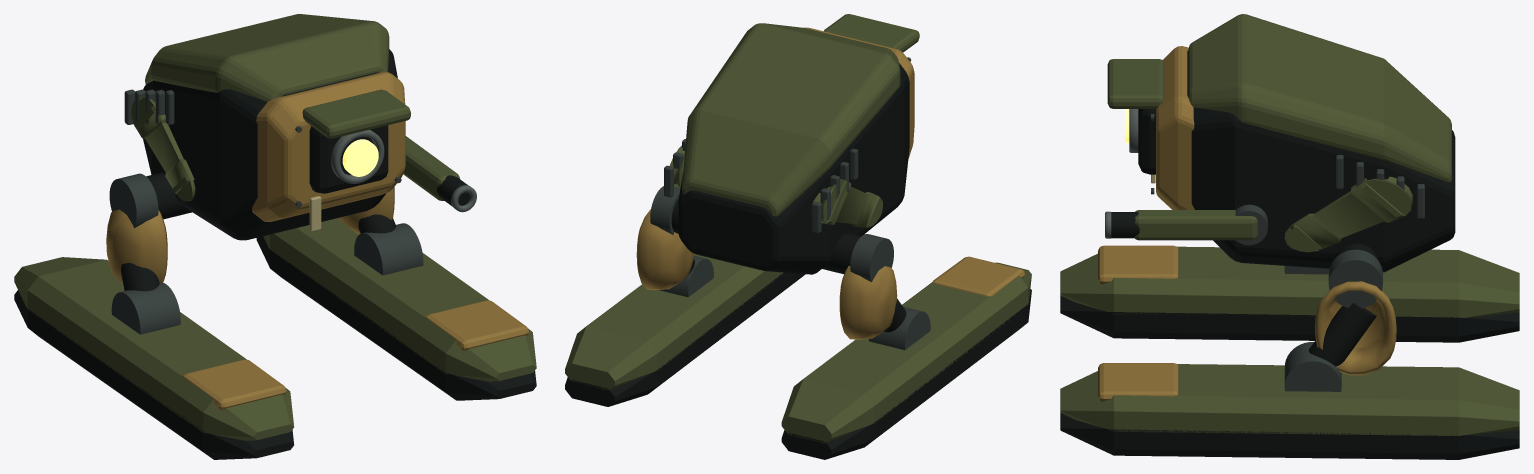
The model's file is DARTER.hi.glb.
The picture shows the model from 3 angles, left to right: view 1: azimuth 30°, elevation 25°; view 2: azimuth 150°, elevation 25°; view 3: azimuth 270°, elevation 25°; orthographic projection. The views are drawn at different scales.
Parts seen in each view (by area): view 1: BodyBank_Mesh, Skate_L_Mesh, Skate_R_Mesh, Suspension_Mesh, ProjectionArm_Mesh; view 2: BodyBank_Mesh, Skate_L_Mesh, Skate_R_Mesh, Suspension_Mesh; view 3: BodyBank_Mesh, Skate_R_Mesh, Skate_L_Mesh, Suspension_Mesh, ProjectionArm_Mesh.
Part boxes in pixels (left/top/right/bottom): BodyBank_Mesh: left=124, top=14, right=410, bottom=240; Skate_L_Mesh: left=14, top=257, right=294, bottom=459; Skate_R_Mesh: left=256, top=218, right=536, bottom=400; Suspension_Mesh: left=106, top=173, right=396, bottom=291; ProjectionArm_Mesh: left=403, top=136, right=476, bottom=212; BodyBank_Mesh: left=664, top=14, right=919, bottom=274; Skate_L_Mesh: left=781, top=256, right=1031, bottom=459; Skate_R_Mesh: left=565, top=253, right=804, bottom=406; Suspension_Mesh: left=636, top=186, right=906, bottom=339; BodyBank_Mesh: left=1107, top=14, right=1455, bottom=272; Skate_R_Mesh: left=1060, top=342, right=1519, bottom=459; Skate_L_Mesh: left=1060, top=245, right=1519, bottom=342; Suspension_Mesh: left=1308, top=243, right=1396, bottom=375; ProjectionArm_Mesh: left=1105, top=204, right=1267, bottom=245.
Bounding box in the file's own units: 1.07 × 1.06 × 1.29.
